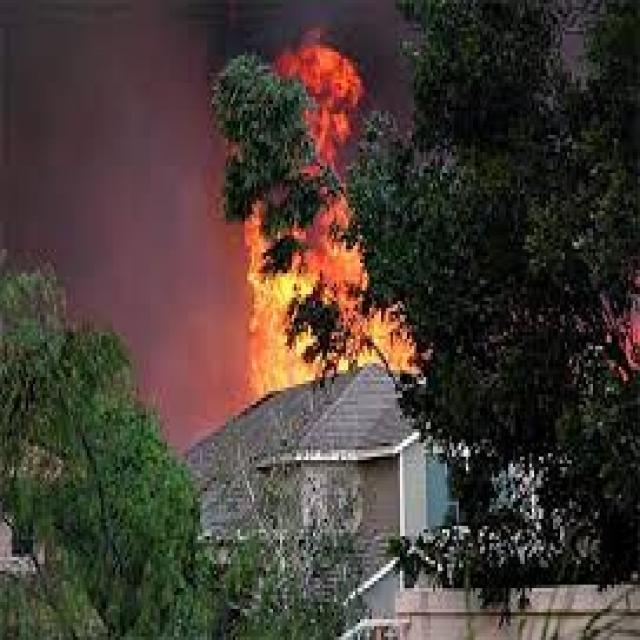Fire: (246, 38, 414, 396)
Smoke: (2, 0, 246, 450)
